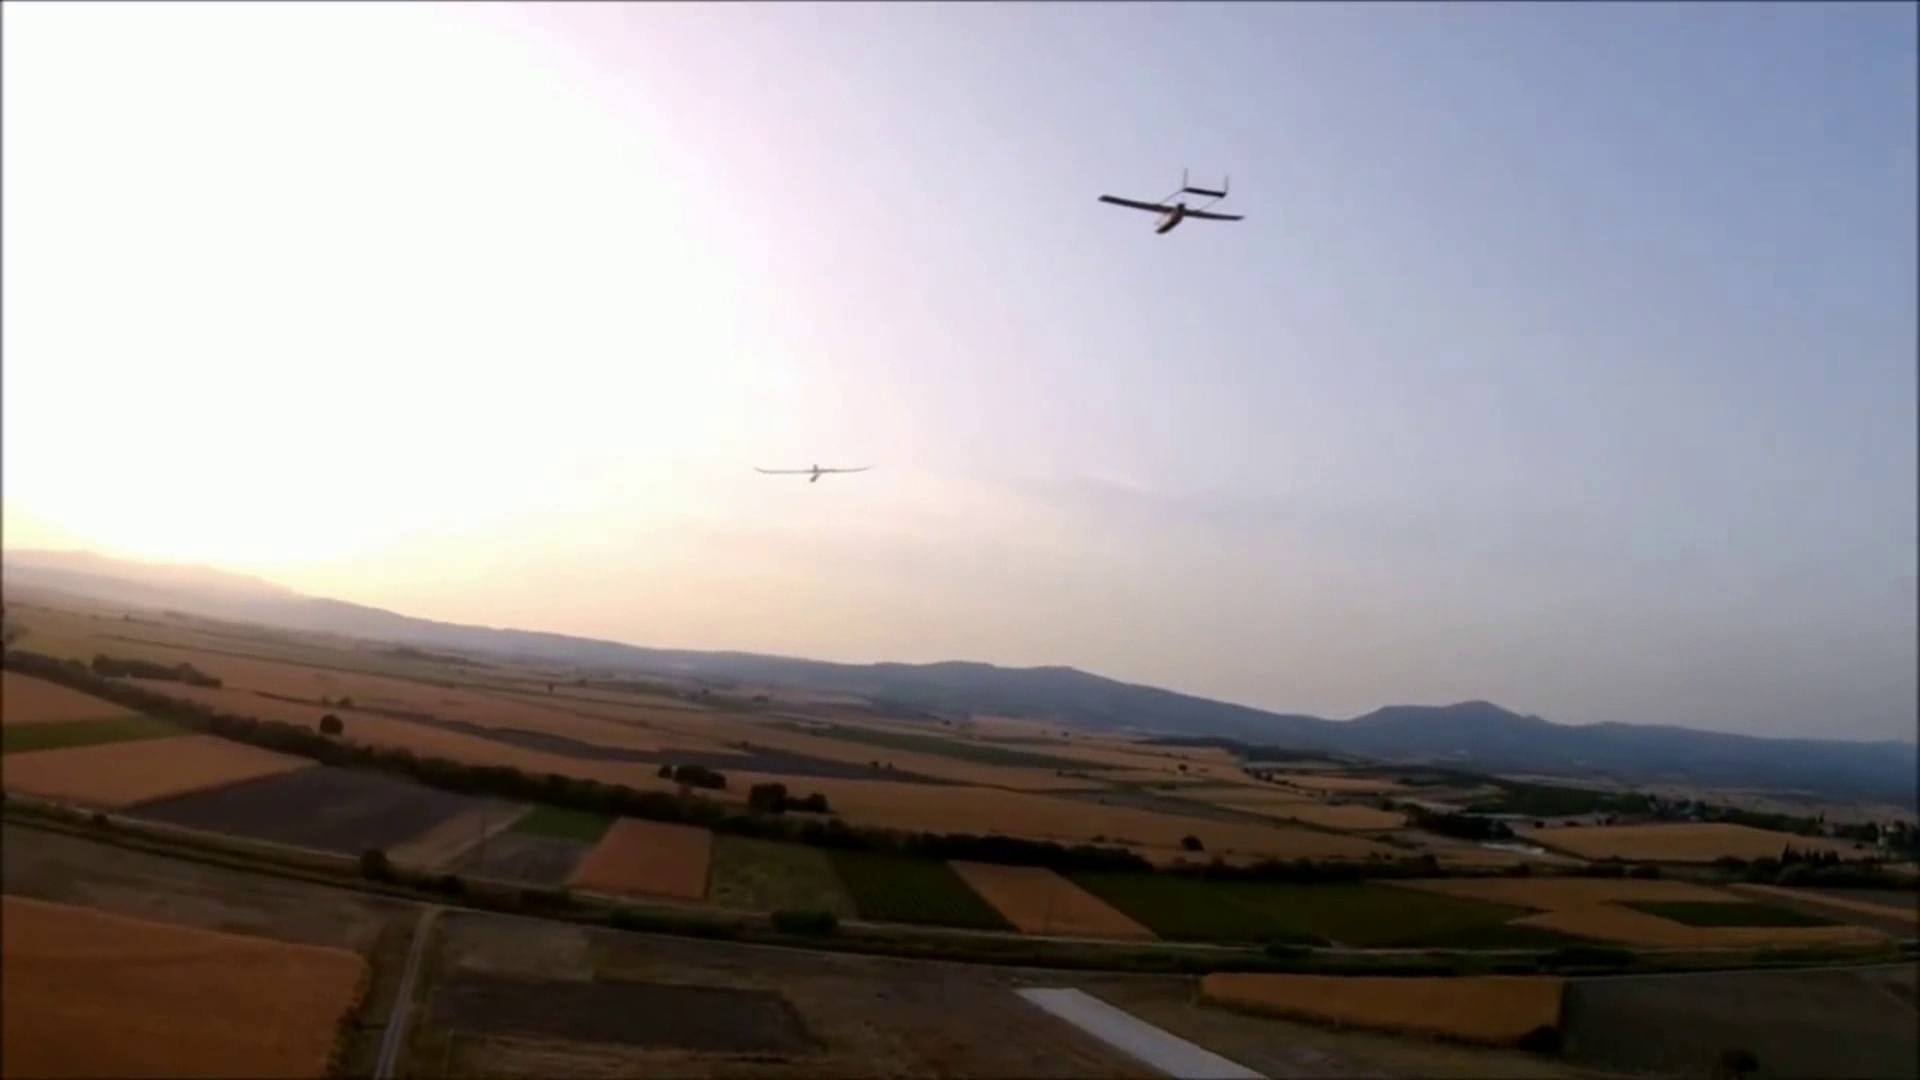airplane: (1096, 167, 1246, 233)
